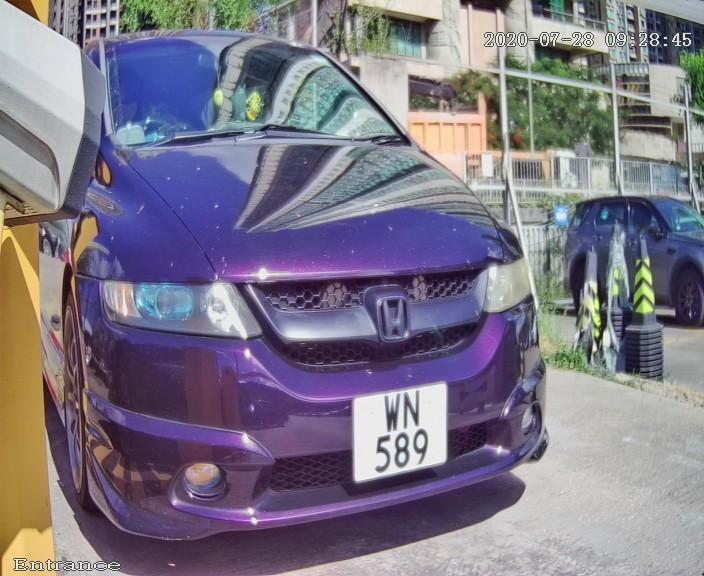privatecar: (13, 19, 620, 559)
